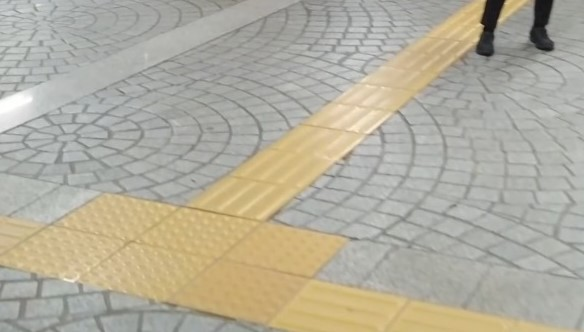guideBlock: (284, 283, 387, 332), (254, 148, 320, 191), (281, 122, 345, 162), (191, 184, 278, 210), (319, 103, 380, 136), (349, 83, 404, 112)
warningBlock: (223, 221, 332, 272), (18, 229, 118, 277), (113, 243, 192, 303), (185, 264, 287, 306), (159, 201, 224, 257), (77, 199, 152, 230)
